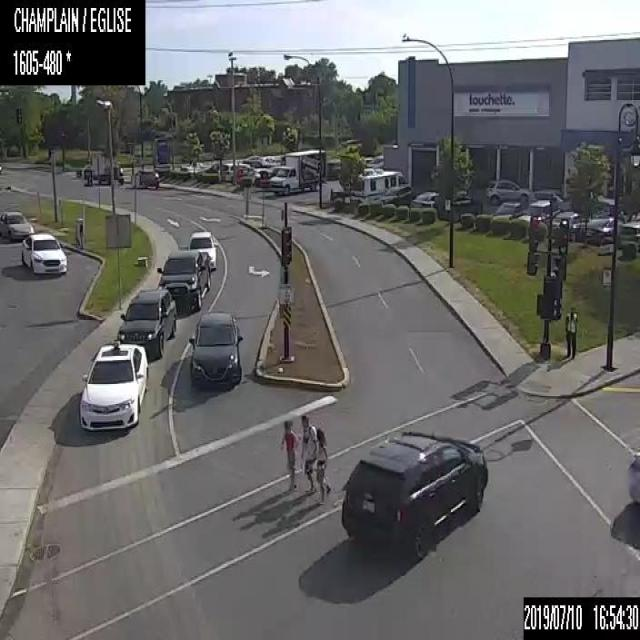pedestrian: (312, 426, 330, 503), (299, 413, 316, 492), (279, 420, 299, 486), (566, 305, 578, 359)
vehicle: (340, 428, 488, 560), (78, 340, 148, 431), (116, 288, 176, 357), (188, 311, 242, 384), (156, 248, 210, 308), (270, 146, 326, 194), (349, 167, 408, 206), (21, 232, 67, 278), (187, 230, 217, 270), (486, 178, 529, 205), (439, 194, 482, 220), (0, 210, 35, 238), (517, 199, 559, 222), (623, 448, 639, 505), (617, 210, 639, 250), (582, 215, 614, 242), (550, 210, 586, 233), (380, 183, 414, 204), (492, 200, 527, 220), (219, 161, 250, 180), (238, 168, 270, 186), (410, 189, 439, 208), (131, 168, 159, 187), (98, 164, 123, 185), (256, 167, 278, 187), (325, 157, 341, 180), (180, 159, 209, 169), (242, 154, 260, 166), (260, 154, 273, 166), (205, 162, 219, 172), (269, 157, 281, 165), (280, 154, 285, 164)
